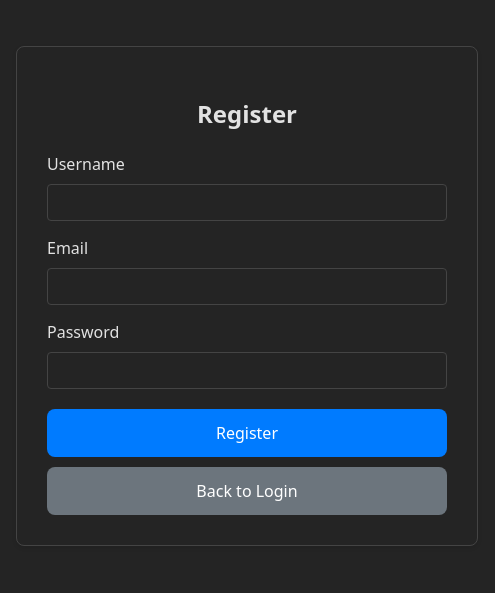
Test: RegisterPage › displays generic error message when error has no message
The width and height of the screenshot is (495, 593).
Type "testuser" into the field labelled "Username".
click(247, 203); type("testuser")  # box [47,184,447,222]
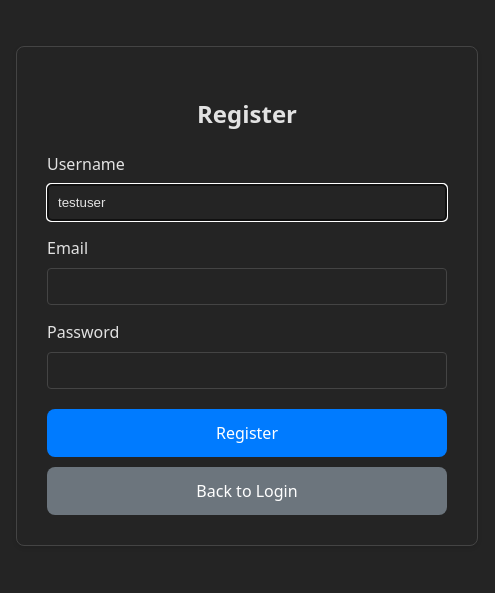
Type "test@example.com" into the field labelled "Email".
click(247, 287); type("test@example.com")  # box [47,268,447,306]
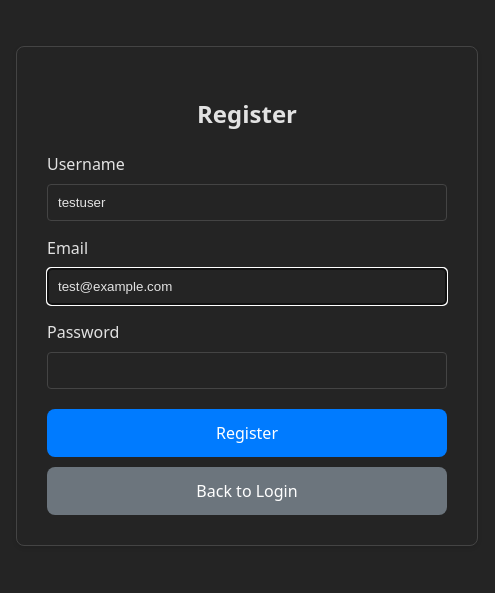
Type "password123" into the password field labelled "Password".
click(247, 371); type("password123")  # box [47,352,447,390]
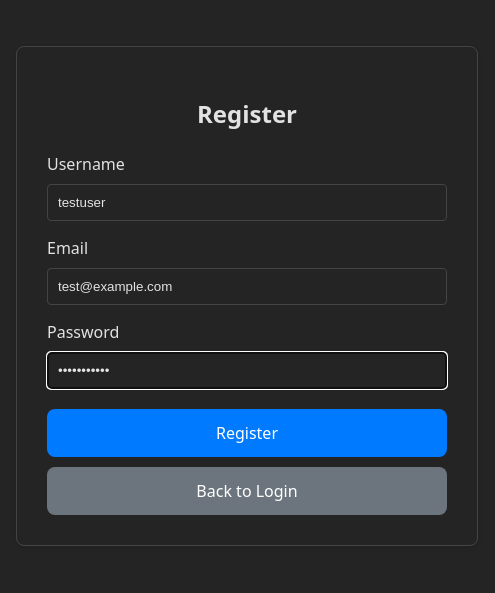
Click the button "Register".
click(247, 434)  # box [47,410,447,458]
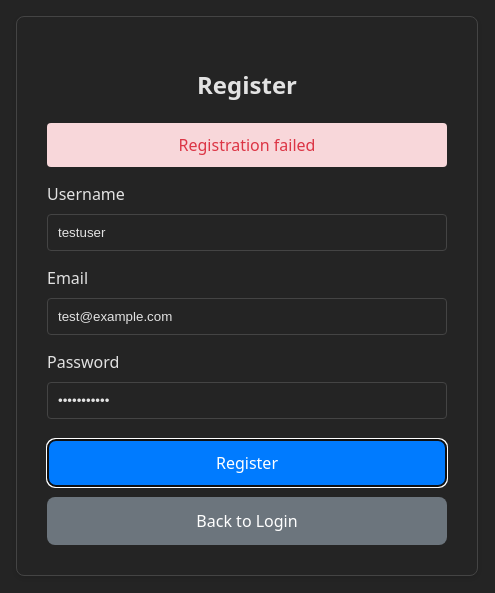
Expected: the text "Registration failed" is shown, [47,123,447,167]
